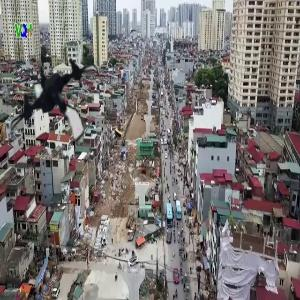drone: (6, 51, 108, 153)
